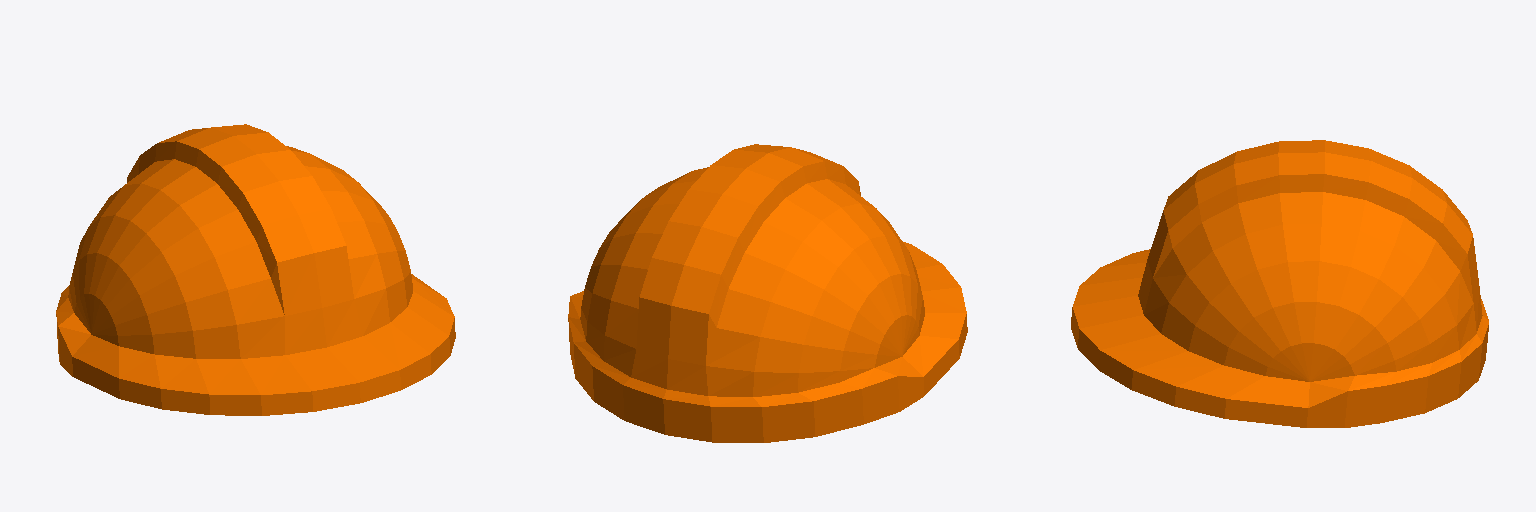
Rendered from character_builder_hat.obj.
The picture shows the model from 3 angles: view 1: azimuth 30°, elevation 25°; view 2: azimuth 150°, elevation 25°; view 3: azimuth 270°, elevation 25°; orthographic projection.
Parts seen in each view (by area): view 1: character_builder_hat_Sphere.007; view 2: character_builder_hat_Sphere.007; view 3: character_builder_hat_Sphere.007.
Part boxes in pixels (x1,y1,x2,y2): character_builder_hat_Sphere.007: (56, 124, 455, 415); character_builder_hat_Sphere.007: (568, 144, 967, 442); character_builder_hat_Sphere.007: (1071, 140, 1488, 427).
Bounding box in the file's own units: 1.23 × 0.7163 × 1.31.